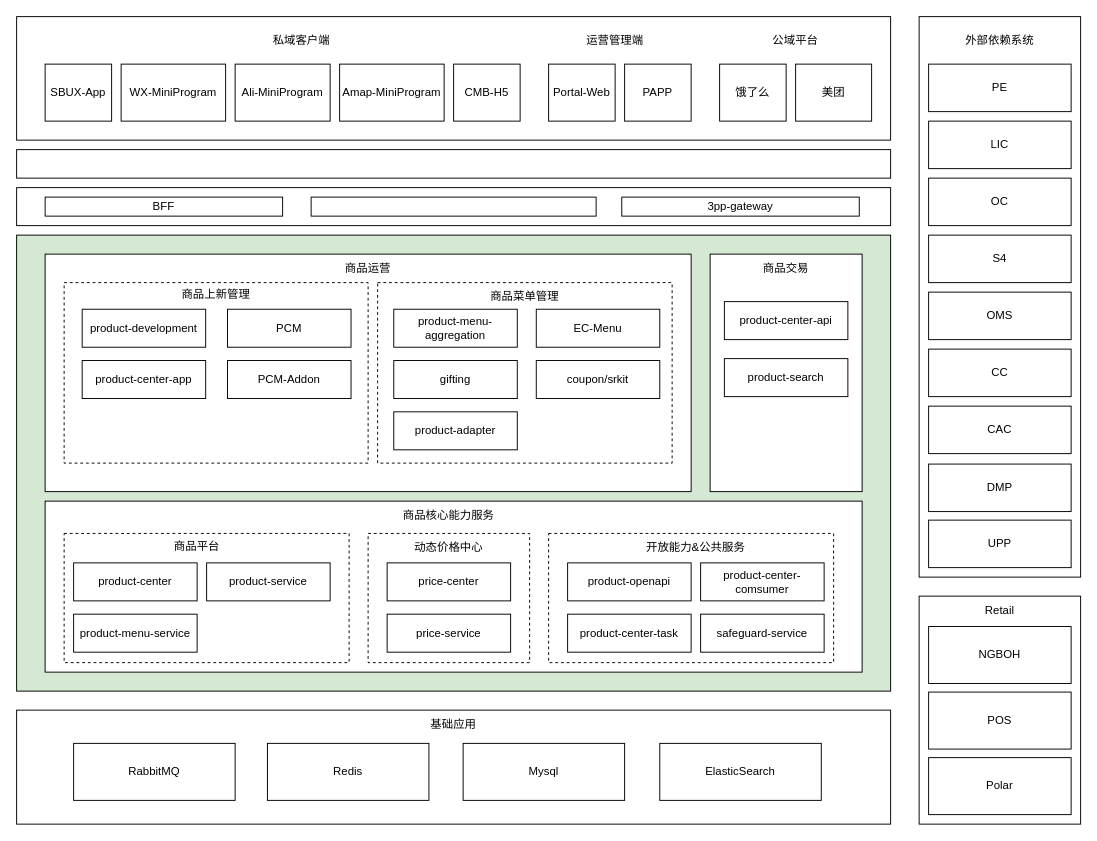
Some shapes in this 1097 by 841 pixel diagram are drawn without their labels. Here are the shapes that lost their labels. From the top down, the centre of each, then its label:
At (453,163): "Gateway-Kong".
At (453,206): "Portal-backend".
